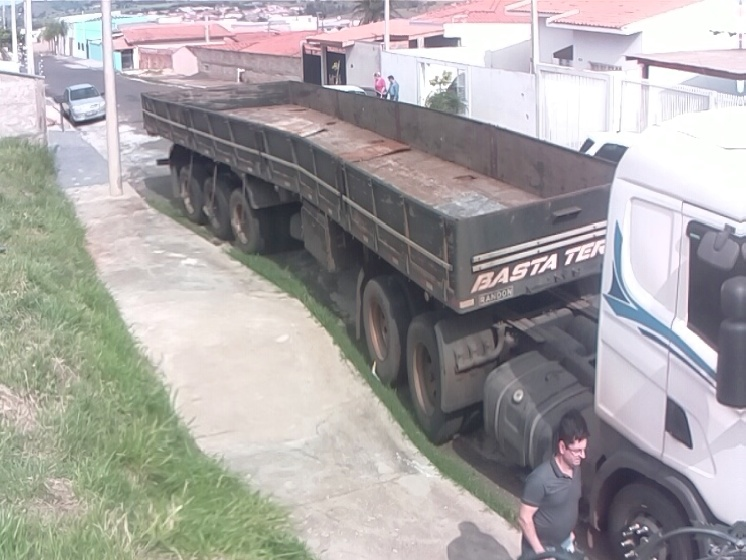person: (514, 408, 589, 560), (373, 71, 387, 101), (387, 75, 401, 103)
